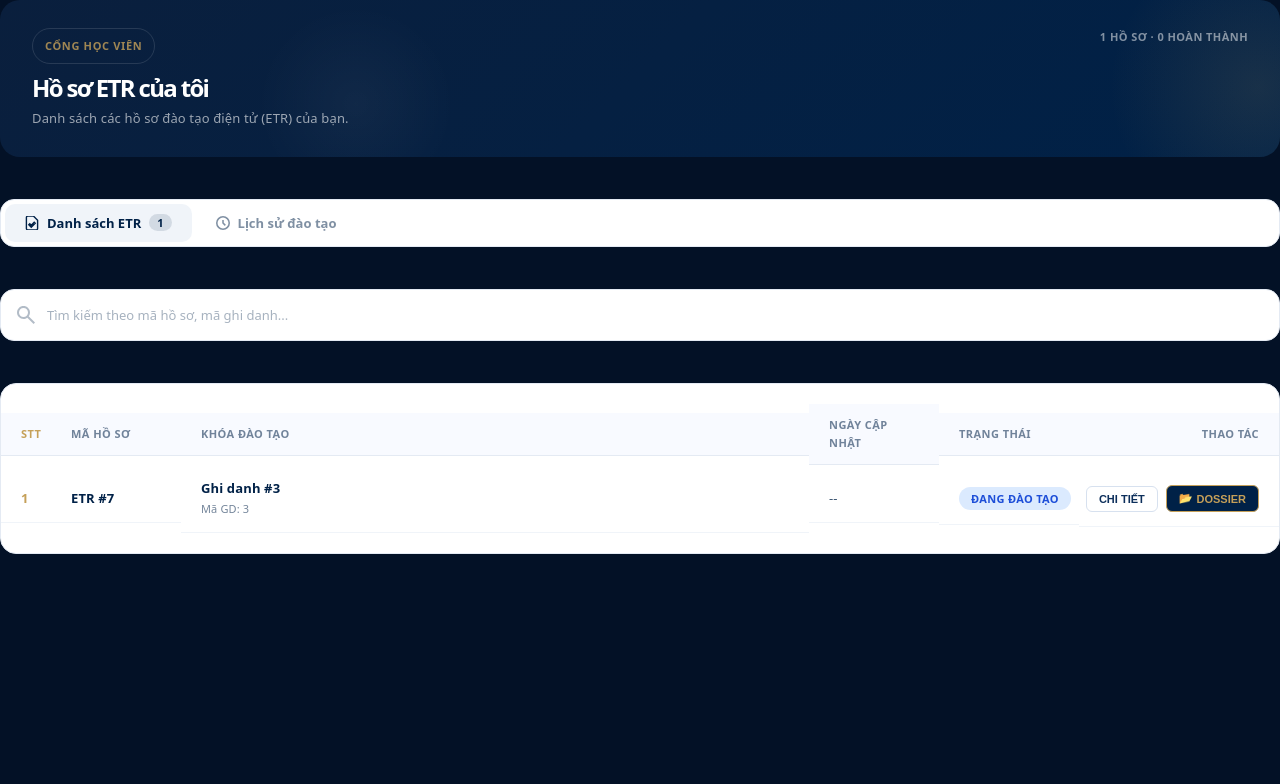
Scenario: StudentMyETR - hiển thị môn giữ nguyên / cần học lại › hiển thị bảng kết quả với cả hai dòng môn học sau khi mở chi tiết
The image size is (1280, 784).
What coordinates should you click on to do the following:
click the button "Chi tiết"
I would click on:
 (1122, 498)
Its box is [1086, 486, 1158, 512].
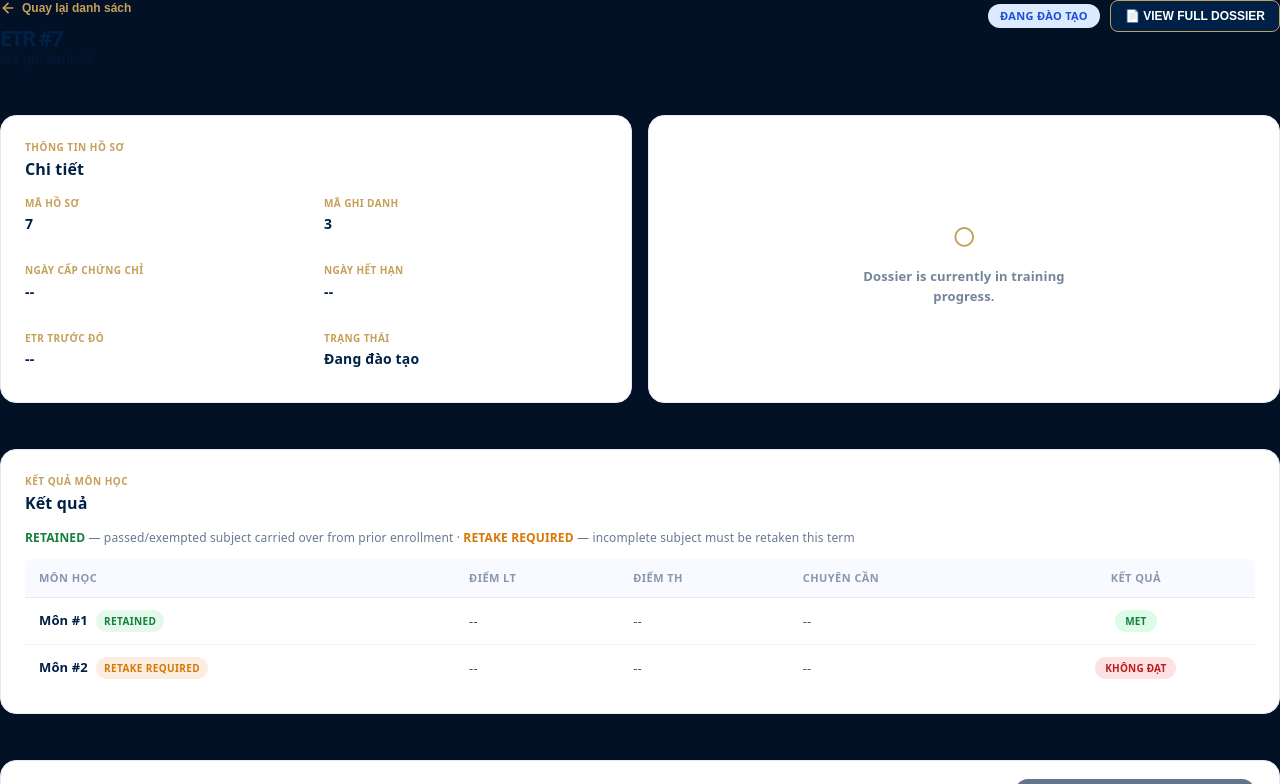
Result: the text "Môn #1" is shown at [39, 611, 88, 629]
Result: the text "Môn #2" is shown at [39, 658, 88, 676]
